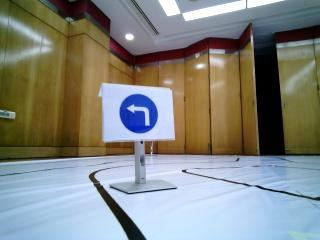left: (108, 93, 174, 140)
